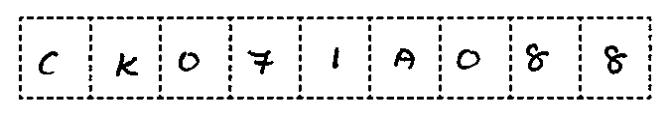0: (169, 45, 211, 78), (451, 45, 485, 73)
1: (320, 43, 354, 74)
7: (242, 44, 279, 77)
8: (595, 40, 634, 80), (520, 38, 553, 80)
A: (390, 42, 422, 74)
C: (33, 47, 66, 79)
K: (111, 49, 144, 83)
